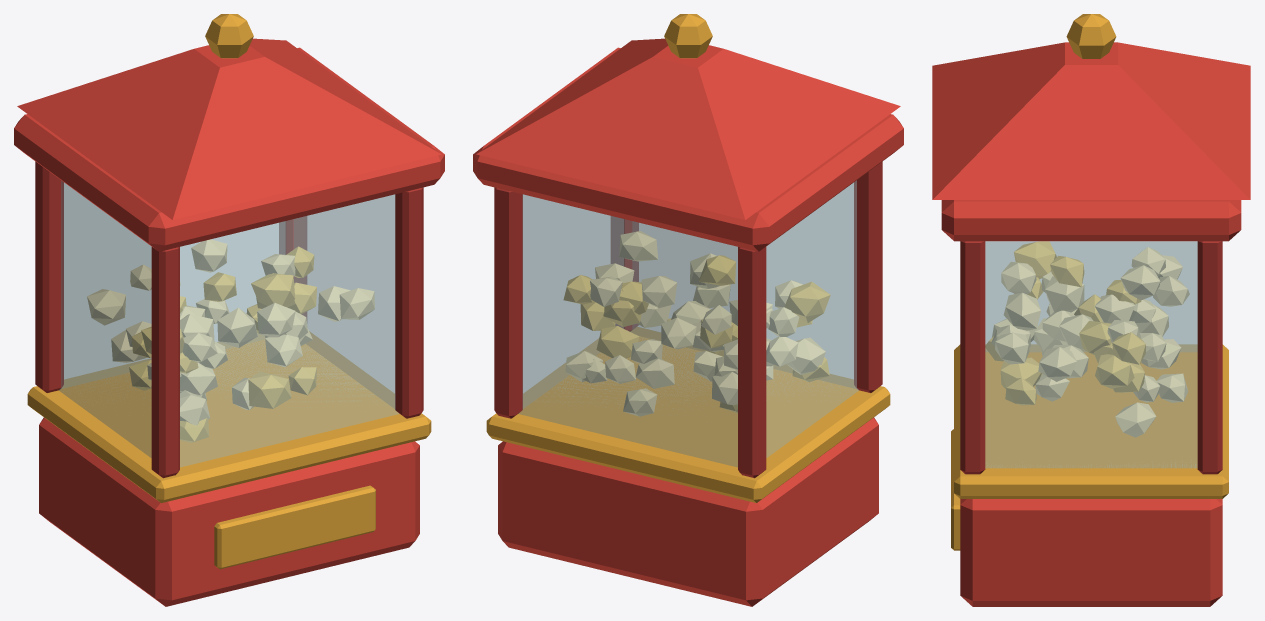
Rendered from popcorn_machine.glb.
The picture shows the model from 3 angles, left to right: view 1: azimuth 30°, elevation 25°; view 2: azimuth 150°, elevation 25°; view 3: azimuth 270°, elevation 25°; orthographic projection. The views are drawn at different scales.
Visible parts, largest first — view 1: popcorn_machine; view 2: popcorn_machine; view 3: popcorn_machine.
Part boxes in pixels (<box>): popcorn_machine: <box>14,14,444,606</box>; popcorn_machine: <box>473,14,903,606</box>; popcorn_machine: <box>932,14,1250,606</box>.
Size of the model in its own units: 0.56 by 0.94 by 0.5091.
